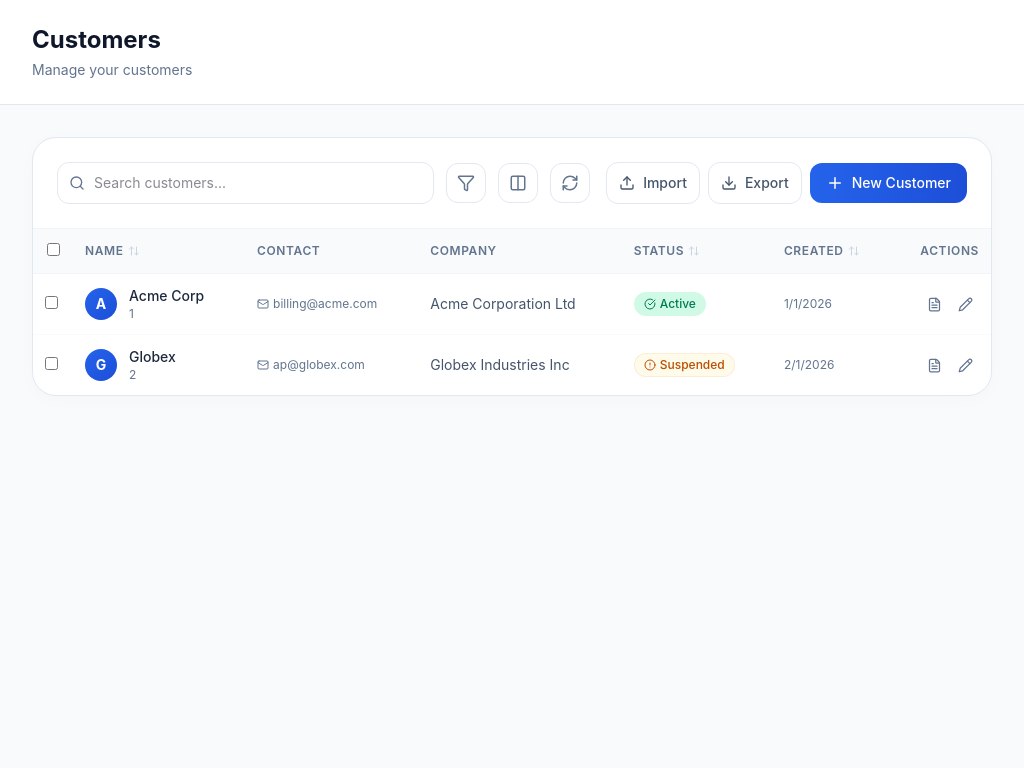
Test: CustomerListPage › Import opens the customer import wizard and Cancel closes it
This screenshot has width=1024, height=768.
expect the text "Acme Corp" is shown: met, box [129,286,204,306]
What coordinates should you click on to do the following:
click the button "Import"
I would click on:
 (653, 183)
Its box is [606,162,700,204].
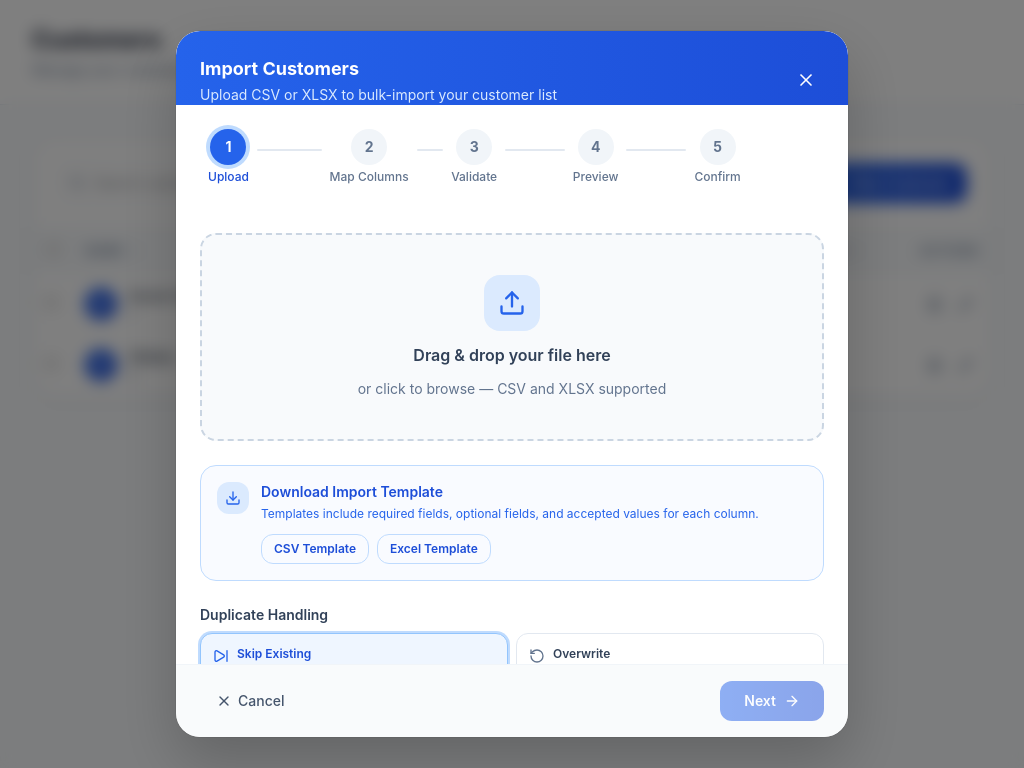
What coordinates should you click on to do the following:
click the button "Cancel"
I would click on:
 (250, 701)
Its box is [200,683,300,719].
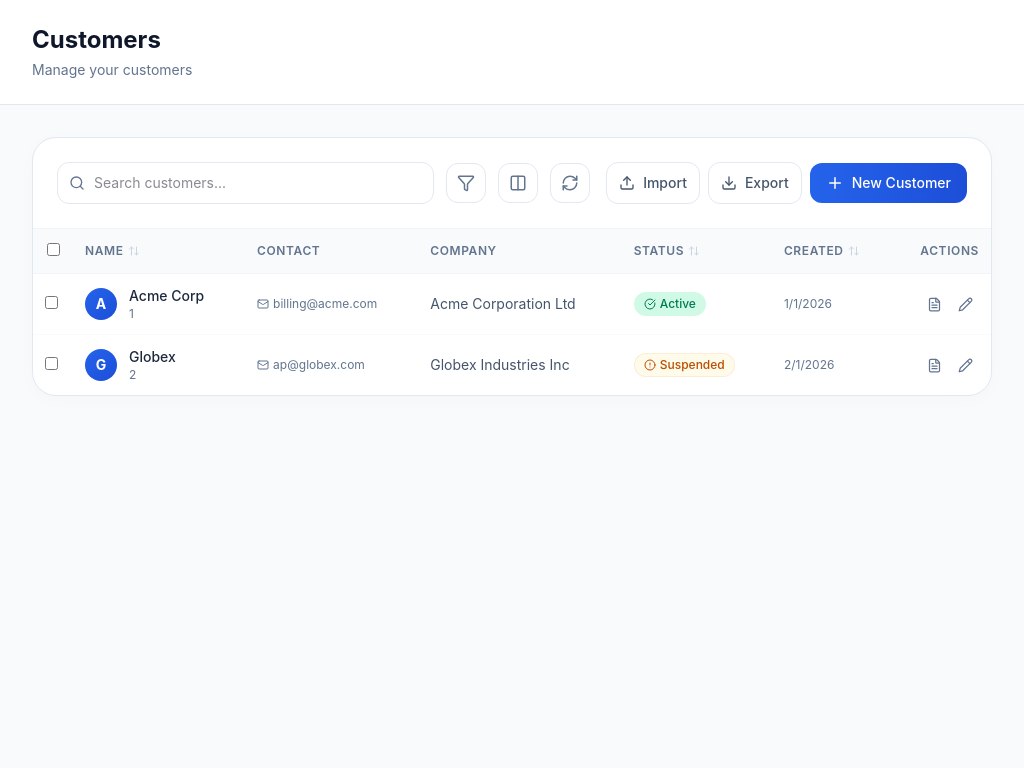
expect the heading "Import Customers" is gone: met
